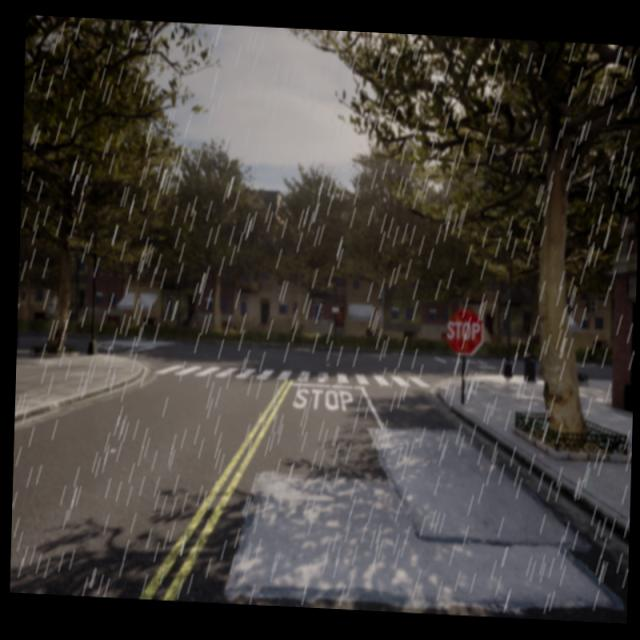stop sign: (443, 305, 486, 357)
